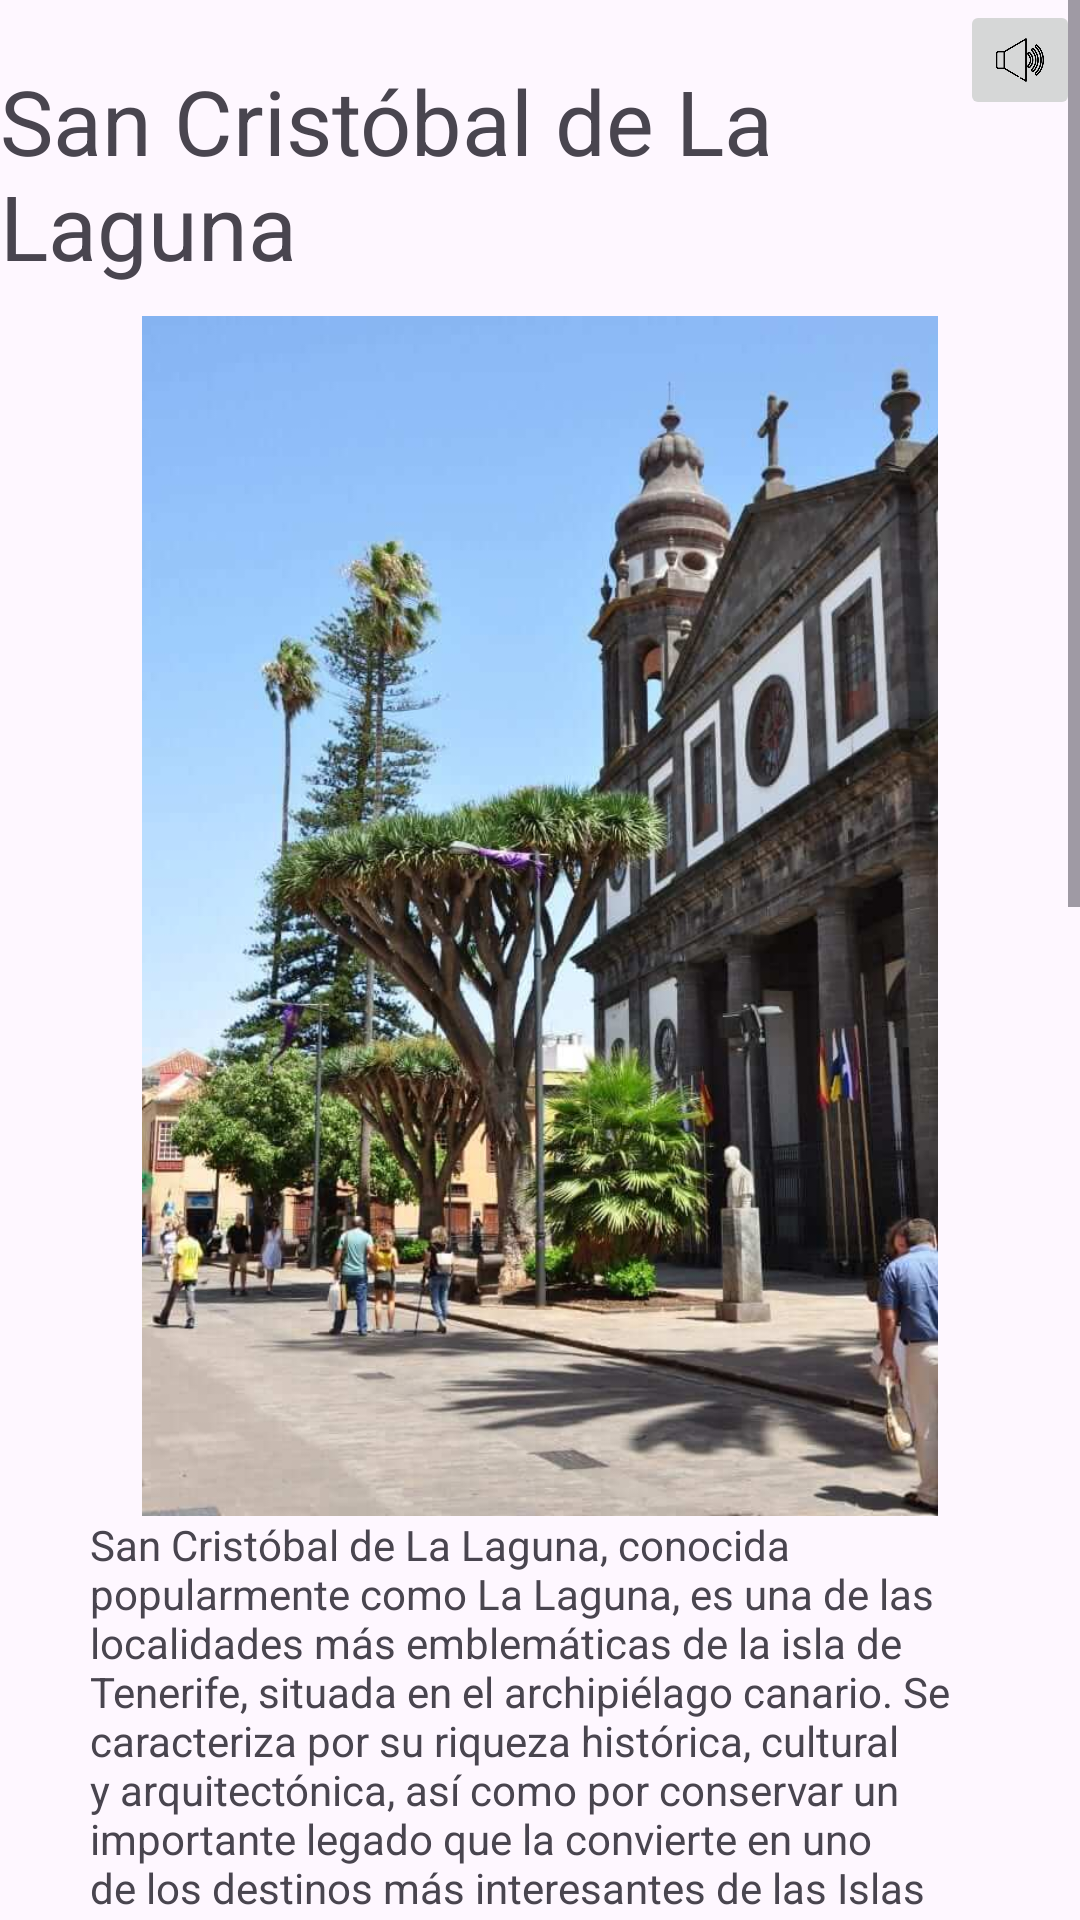

Where icons sit on this 1080 x 1920 app screen, as (x1, y1, x2, y2):
altavozsonando: (972, 0, 1080, 120)
